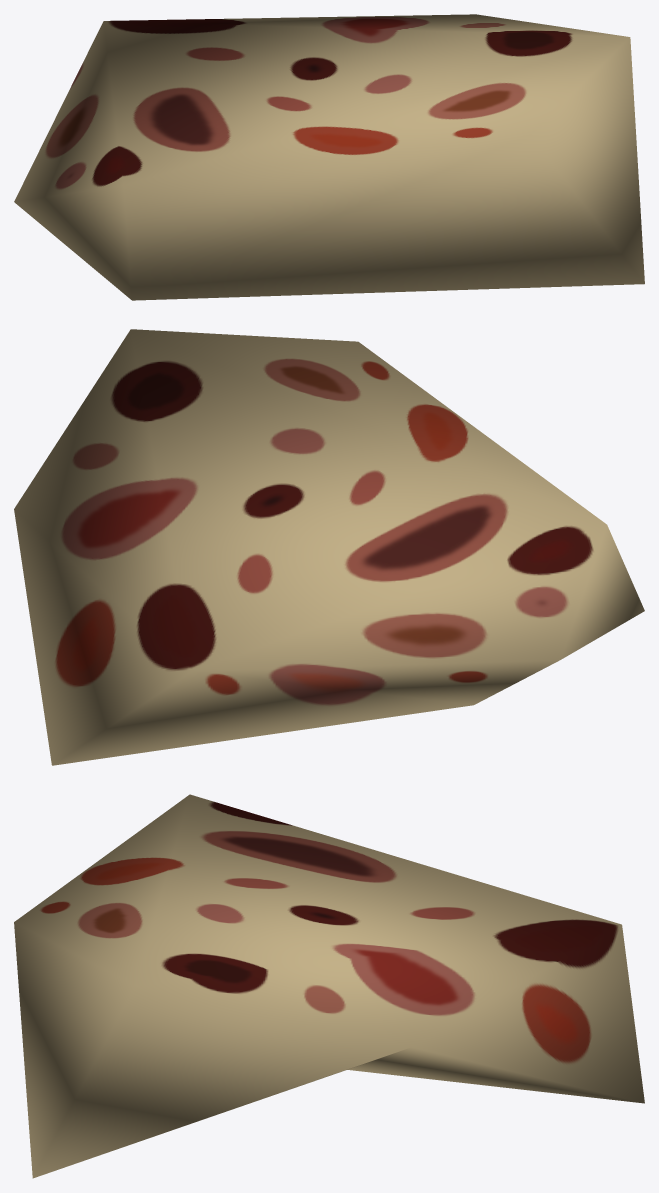
Rendered from Bauxite.fbx.
The picture shows the model from 3 angles, top to bottom: view 1: azimuth 30°, elevation 25°; view 2: azimuth 150°, elevation 25°; view 3: azimuth 270°, elevation 25°; orthographic projection. The views are drawn at different scales.
Visible parts, largest first — view 1: Cube; view 2: Cube; view 3: Cube.
Boxes of the visible parts, box(x1,y1,x2,y2) form: Cube: box(14, 14, 644, 300); Cube: box(14, 329, 644, 765); Cube: box(14, 794, 644, 1178).
Size of the model in its own units: 157 by 59.09 by 161.
